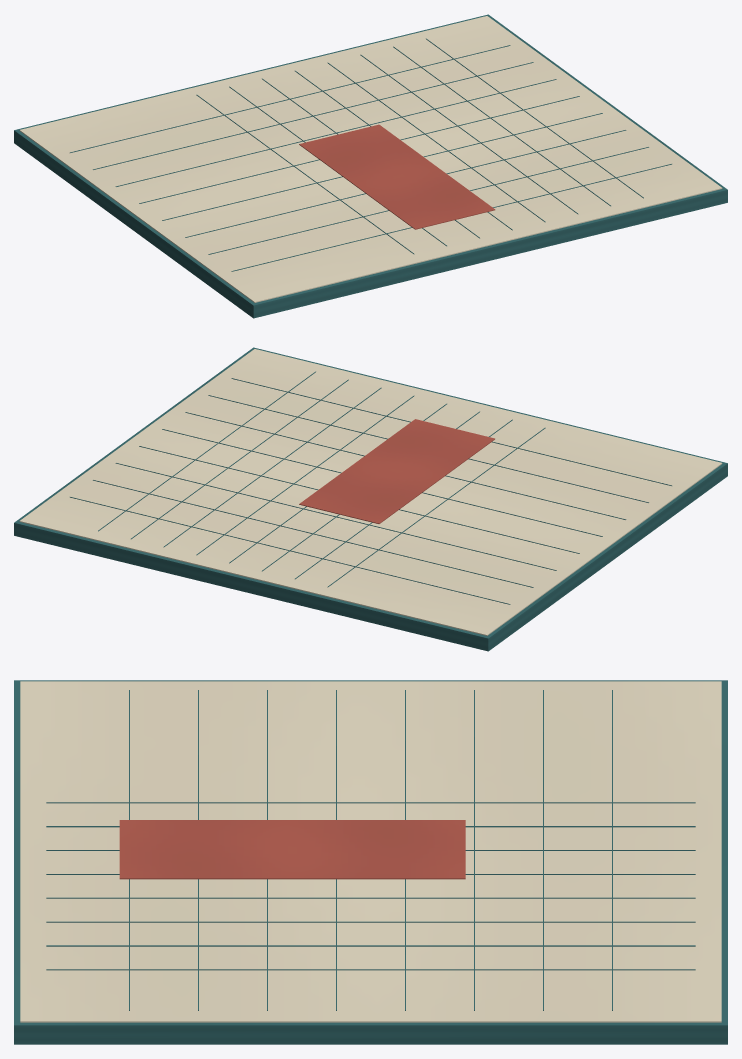
Rendered from atlas100-s035-a07.lod1.glb.
3 views of the same model, one above another, from view 1: azimuth 30°, elevation 25°; view 2: azimuth 150°, elevation 25°; view 3: azimuth 270°, elevation 25° (orthographic). The views are drawn at different scales.
Visible parts, largest first — view 1: atlas100-s035-a07:part-001, atlas100-s035-a07:part-000, atlas100-s035-a07:part-021, atlas100-s035-a07:part-013, atlas100-s035-a07:part-014, atlas100-s035-a07:part-015, atlas100-s035-a07:part-020, atlas100-s035-a07:part-018, atlas100-s035-a07:part-019, atlas100-s035-a07:part-017, atlas100-s035-a07:part-016; view 2: atlas100-s035-a07:part-001, atlas100-s035-a07:part-000, atlas100-s035-a07:part-021, atlas100-s035-a07:part-013, atlas100-s035-a07:part-014, atlas100-s035-a07:part-015, atlas100-s035-a07:part-019, atlas100-s035-a07:part-020, atlas100-s035-a07:part-016, atlas100-s035-a07:part-018, atlas100-s035-a07:part-017; view 3: atlas100-s035-a07:part-001, atlas100-s035-a07:part-000, atlas100-s035-a07:part-021, atlas100-s035-a07:part-010, atlas100-s035-a07:part-011, atlas100-s035-a07:part-012, atlas100-s035-a07:part-005, atlas100-s035-a07:part-009, atlas100-s035-a07:part-006.
Boxes of the visible parts, x1,y1,x2,y2 form: atlas100-s035-a07:part-001: (19, 16, 722, 302); atlas100-s035-a07:part-000: (14, 14, 727, 318); atlas100-s035-a07:part-021: (299, 124, 495, 229); atlas100-s035-a07:part-013: (70, 45, 510, 152); atlas100-s035-a07:part-014: (93, 62, 533, 169); atlas100-s035-a07:part-015: (115, 79, 556, 186); atlas100-s035-a07:part-020: (231, 164, 671, 271); atlas100-s035-a07:part-018: (185, 130, 626, 237); atlas100-s035-a07:part-019: (208, 147, 648, 254); atlas100-s035-a07:part-017: (162, 113, 602, 220); atlas100-s035-a07:part-016: (139, 96, 579, 203); atlas100-s035-a07:part-001: (19, 349, 722, 635); atlas100-s035-a07:part-000: (14, 347, 727, 651); atlas100-s035-a07:part-021: (299, 419, 494, 523); atlas100-s035-a07:part-013: (70, 497, 510, 604); atlas100-s035-a07:part-014: (93, 480, 533, 587); atlas100-s035-a07:part-015: (115, 463, 556, 570); atlas100-s035-a07:part-019: (208, 395, 648, 502); atlas100-s035-a07:part-020: (231, 378, 671, 485); atlas100-s035-a07:part-016: (139, 446, 579, 553); atlas100-s035-a07:part-018: (185, 412, 626, 519); atlas100-s035-a07:part-017: (162, 429, 602, 536); atlas100-s035-a07:part-001: (20, 681, 721, 1022); atlas100-s035-a07:part-000: (14, 680, 727, 1044); atlas100-s035-a07:part-021: (119, 820, 465, 879); atlas100-s035-a07:part-010: (46, 921, 695, 922); atlas100-s035-a07:part-011: (46, 945, 695, 946); atlas100-s035-a07:part-012: (46, 969, 695, 970); atlas100-s035-a07:part-005: (46, 802, 695, 803); atlas100-s035-a07:part-009: (46, 897, 695, 898); atlas100-s035-a07:part-006: (46, 826, 695, 827).
Bounding box in the file's own units: 13.02 × 0.404 × 11.39.
Materials: 3 (3 with a texture image).
